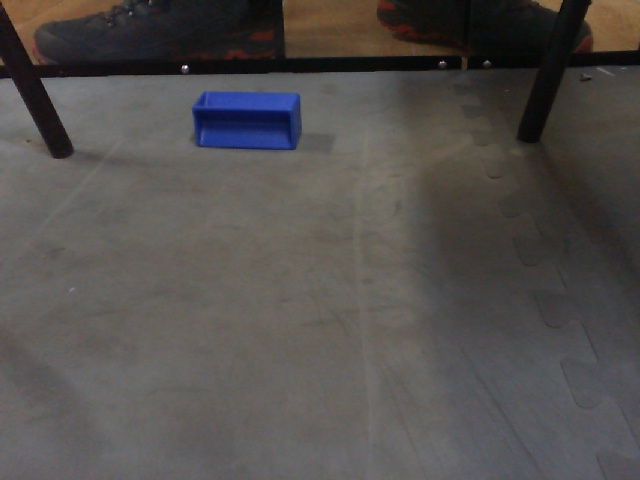BlueSample: (190, 89, 310, 151)
